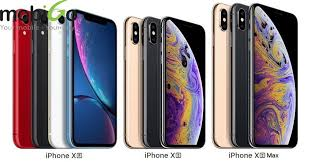iphone10: (68, 9, 122, 149), (249, 1, 299, 149), (158, 11, 208, 151)
